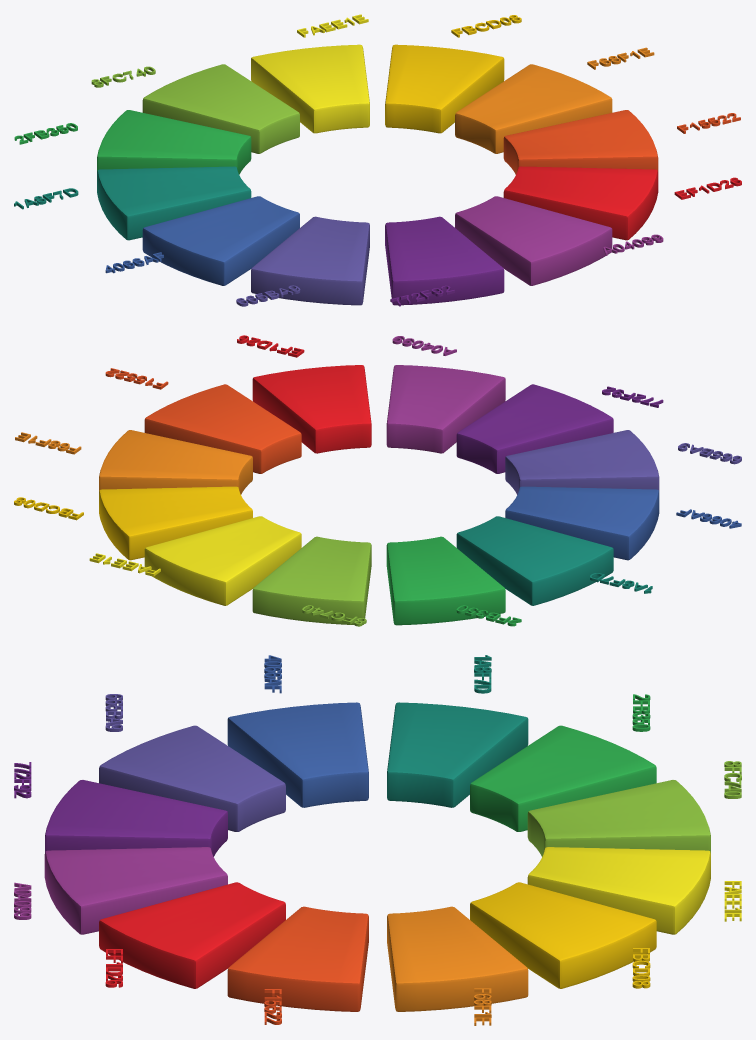
File: color_wheel.glb
3 views of the same model, one above another, from view 1: azimuth 30°, elevation 25°; view 2: azimuth 150°, elevation 25°; view 3: azimuth 270°, elevation 25° (orthographic). The views are drawn at different scales.
Parts seen in each view (by area): view 1: Tube008, Tube005, Tube006, Tube012, Tube013, Tube007, Tube011, Tube002, Tube009, Tube004, Tube010, Tube003 (+6 smaller); view 2: Tube004, Tube013, Tube003, Tube009, Tube008, Tube002, Tube007, Tube010, Tube005, Tube012, Tube006, Tube011 (+11 smaller); view 3: Tube009, Tube012, Tube010, Tube011, Tube004, Tube005, Tube003, Tube006, Tube008, Tube013, Tube002, Tube007 (+8 smaller).
Part boxes in pixels (box(x1,y1,x2,y2)): Tube008: box(455, 196, 612, 285); Tube005: box(142, 196, 299, 285); Tube006: box(251, 216, 369, 305); Tube012: box(385, 44, 504, 133); Tube013: box(251, 44, 369, 133); Tube007: box(385, 216, 504, 305); Tube011: box(455, 64, 612, 153); Tube002: box(142, 64, 299, 153); Tube009: box(503, 166, 658, 240); Tube004: box(97, 166, 251, 240); Tube010: box(503, 110, 658, 174); Tube003: box(97, 110, 251, 174); Tube004: box(456, 516, 613, 605); Tube013: box(144, 516, 301, 605); Tube003: box(386, 536, 505, 625); Tube009: box(252, 365, 371, 453); Tube008: box(386, 365, 505, 453); Tube002: box(252, 536, 371, 624); Tube007: box(456, 384, 613, 473); Tube010: box(144, 384, 301, 473); Tube005: box(505, 486, 659, 560); Tube012: box(99, 486, 252, 560); Tube006: box(505, 430, 659, 494); Tube011: box(99, 430, 252, 494); Tube009: box(99, 882, 285, 988); Tube012: box(470, 882, 656, 988); Tube010: box(227, 906, 368, 1011); Tube011: box(387, 906, 528, 1011); Tube004: box(387, 702, 528, 807); Tube005: box(227, 702, 368, 807); Tube003: box(470, 725, 656, 831); Tube006: box(99, 725, 285, 831); Tube008: box(44, 847, 227, 934); Tube013: box(527, 847, 710, 934); Tube002: box(527, 780, 710, 856); Tube007: box(45, 780, 227, 856).
Bounding box in the file's own units: 1.3 × 0.055 × 1.09.
